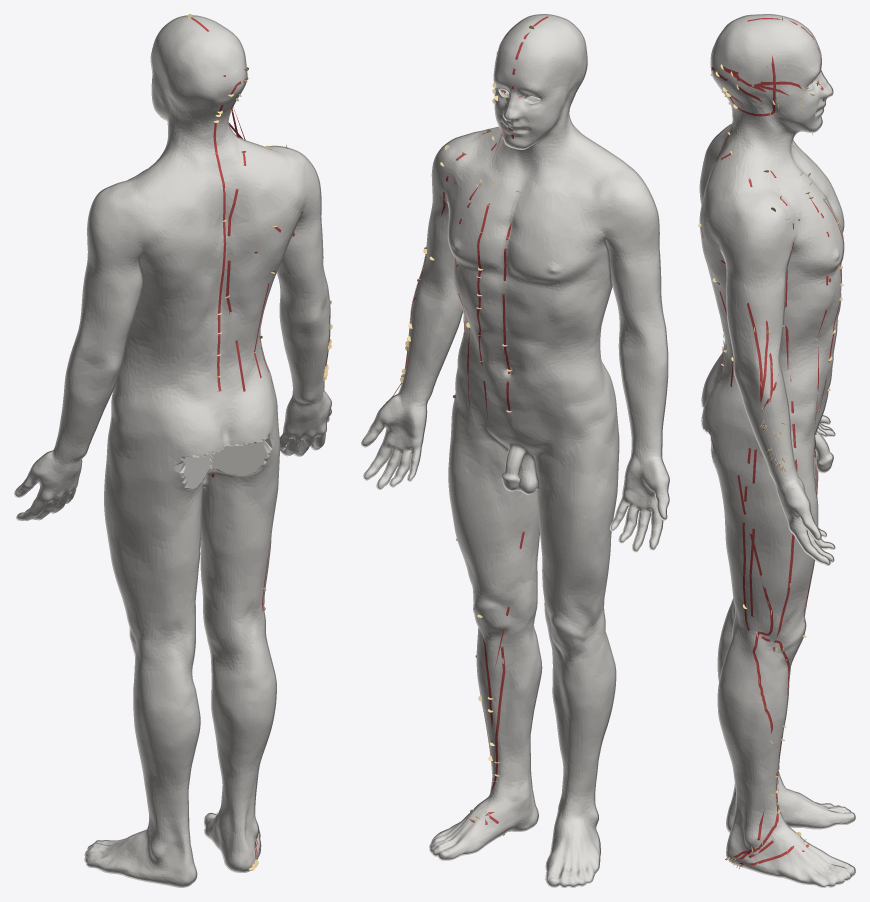
The model's file is body_m.glb.
3 renders of one model, left to right at view 1: azimuth 30°, elevation 25°; view 2: azimuth 150°, elevation 25°; view 3: azimuth 270°, elevation 25°, orthographic. The views are drawn at different scales.
Visible parts, largest first — view 1: skin, meridian_lines; view 2: skin, meridian_lines, acupoint_dots; view 3: skin, meridian_lines, acupoint_dots.
Part boxes in pixels (<box>): skin: <box>14,15,331,887</box>; meridian_lines: <box>184,16,329,867</box>; skin: <box>361,14,669,887</box>; meridian_lines: <box>392,16,548,824</box>; acupoint_dots: <box>400,25,534,835</box>; skin: <box>699,14,855,887</box>; meridian_lines: <box>701,18,843,866</box>; acupoint_dots: <box>698,16,843,868</box>.
Size of the model in its own units: 0.6671 by 1.72 by 0.2947.
